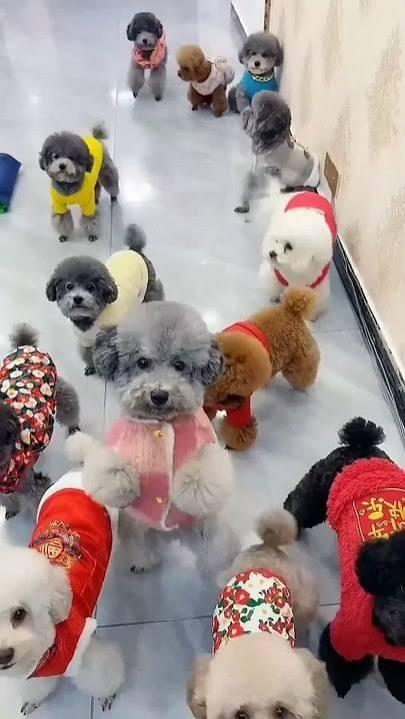adult_dog: (80, 302, 244, 588), (0, 433, 127, 713), (283, 415, 405, 701), (185, 508, 331, 719), (204, 287, 323, 452), (44, 225, 165, 375), (0, 323, 85, 521), (234, 90, 321, 214), (38, 120, 121, 244), (265, 181, 338, 308), (227, 30, 286, 115), (173, 43, 236, 118), (125, 12, 171, 102)
